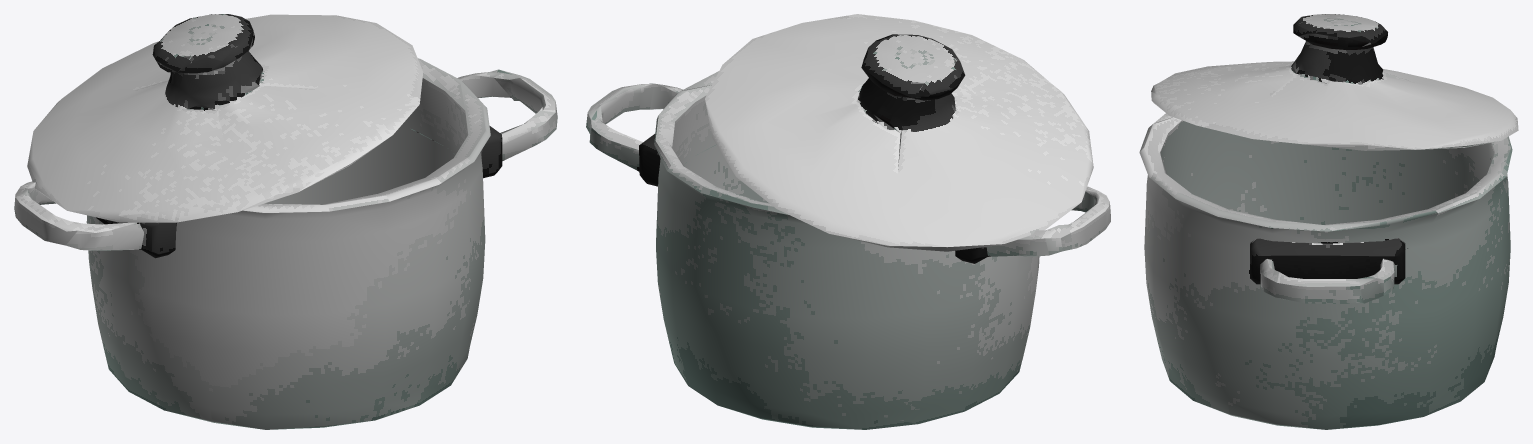
The model's file is pot_a.glb.
3 views of the same model, side by side, from view 1: azimuth 30°, elevation 25°; view 2: azimuth 150°, elevation 25°; view 3: azimuth 270°, elevation 25° (orthographic). The views are drawn at different scales.
Parts seen in each view (by area): view 1: mesh; view 2: mesh; view 3: mesh.
Boxes of the visible parts, bbox=[...] form: mesh: bbox=[14, 14, 557, 429]; mesh: bbox=[586, 14, 1110, 429]; mesh: bbox=[1139, 14, 1518, 429].
Bounding box in the file's own units: 0.3137 × 0.2 × 0.2204.
Materials: 1 (1 with a texture image).
